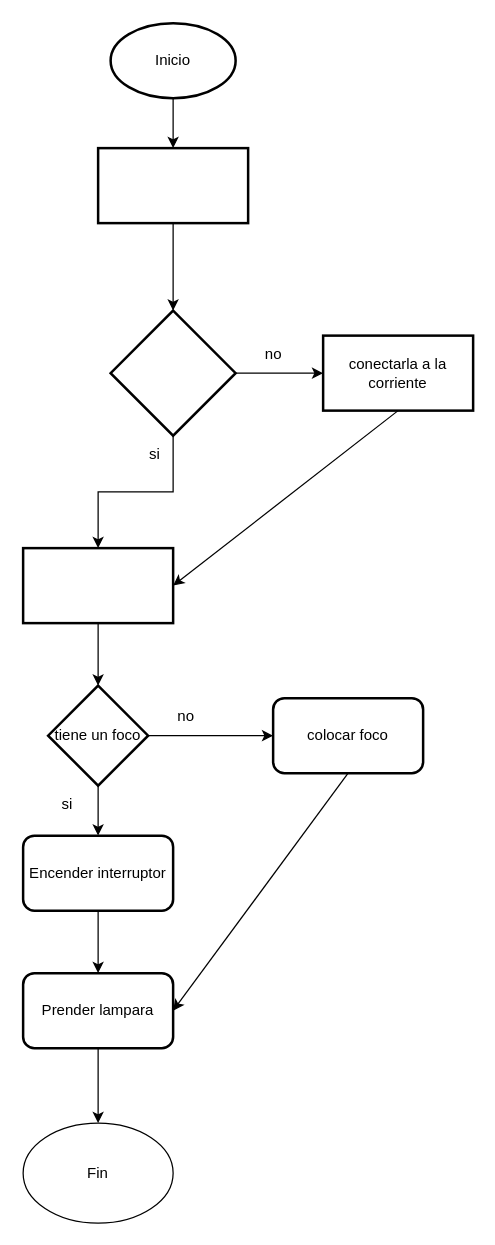
Some shapes in this 495 by 1245 pixel diagram are drawn without their labels. The shapes that lost their labels are listed below. From the top down, each one's centre as x and y in pixels, then its label:
At (172,185): "ubicar la lampara".
At (172,372): "Esta conectada".
At (97,585): "Verificar que tenga un foco".
